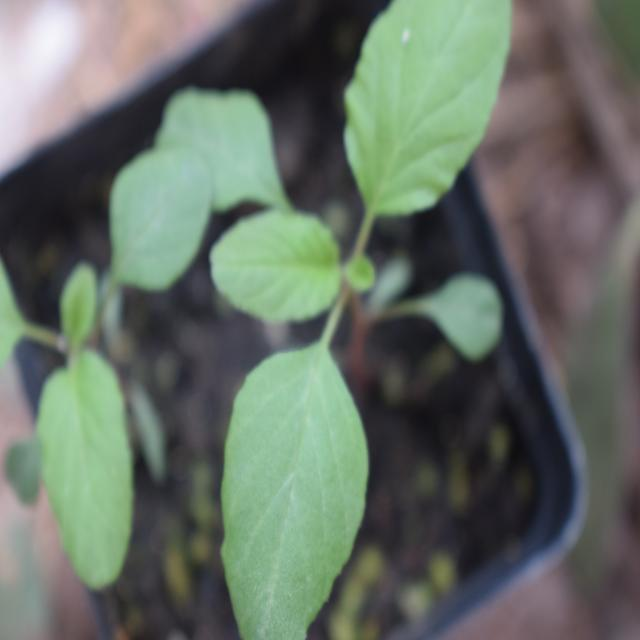pigweed: (161, 0, 523, 603)
